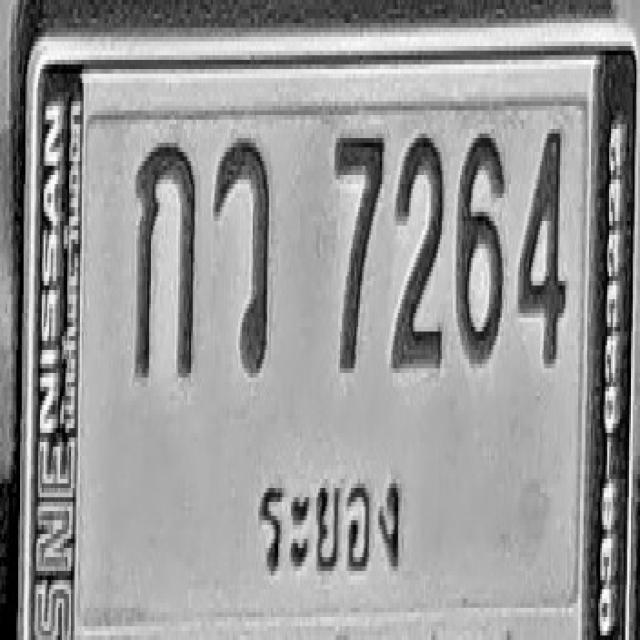10GorGai: (134, 136, 197, 375)
2: (391, 129, 444, 364)
4: (518, 122, 566, 361)
46WorWaen: (214, 131, 270, 371)
6: (457, 129, 505, 359)
7: (334, 129, 384, 368)
Rayong: (252, 459, 406, 584)
